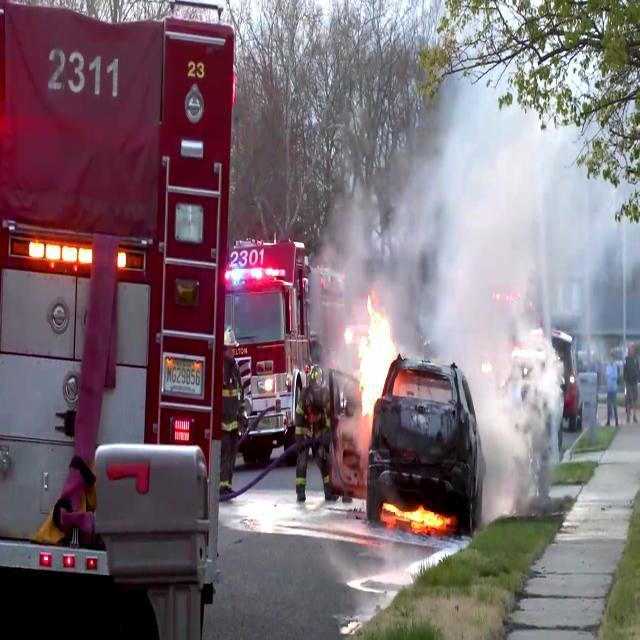Fire: (352, 295, 399, 415), (382, 500, 444, 532)
Smoke: (315, 45, 640, 366), (438, 240, 584, 516)
